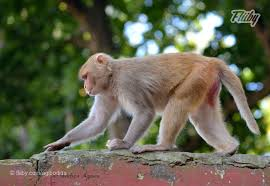monkey: (23, 18, 270, 174)
